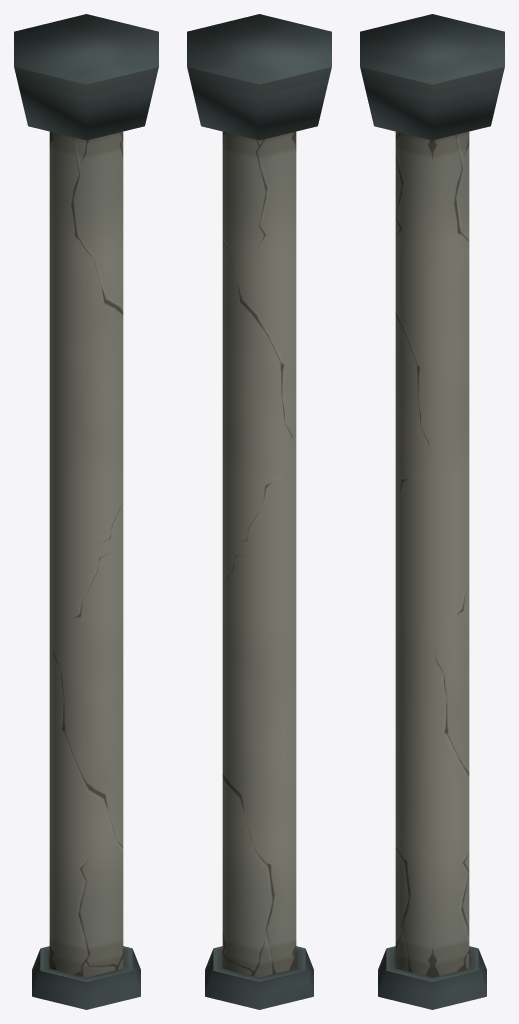
File: Dg_01_pillar_04.FBX
The picture shows the model from 3 angles, left to right: view 1: azimuth 30°, elevation 25°; view 2: azimuth 150°, elevation 25°; view 3: azimuth 270°, elevation 25°; orthographic projection.
Visible parts, largest first — view 1: Dg_01_pillar_04; view 2: Dg_01_pillar_04; view 3: Dg_01_pillar_04.
Boxes of the visible parts, x1,y1,x2,y2 form: Dg_01_pillar_04: [14, 14, 158, 1009]; Dg_01_pillar_04: [187, 14, 331, 1009]; Dg_01_pillar_04: [360, 14, 504, 1009].
Bounding box in the file's own units: 1.15 × 7.06 × 0.993.
